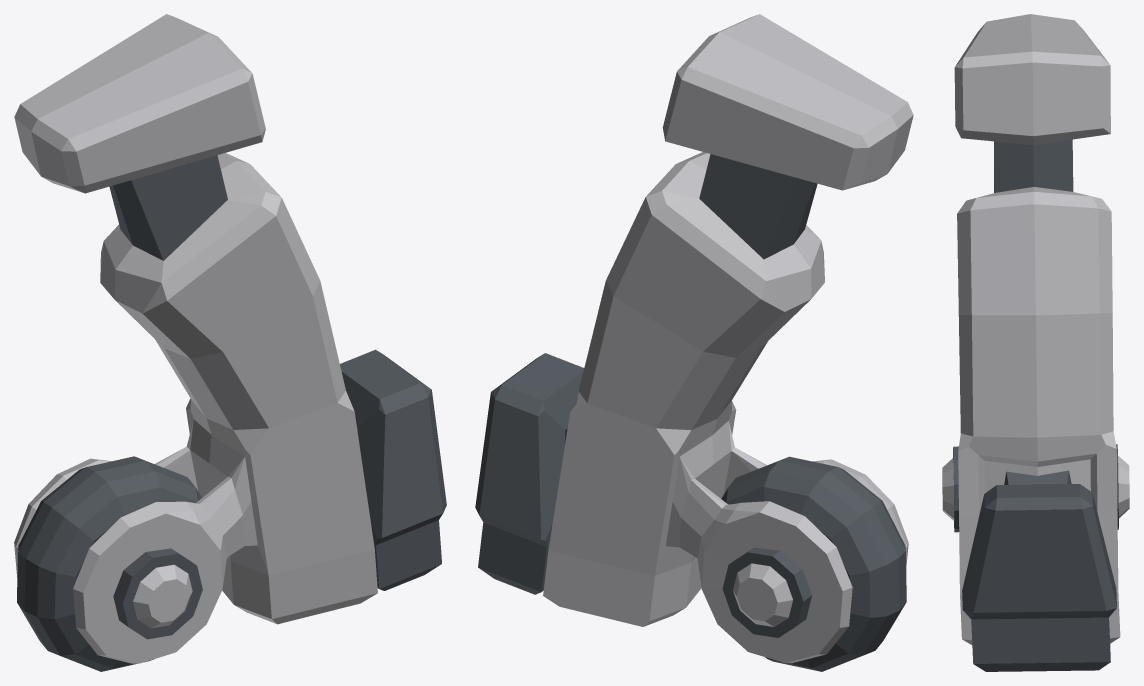
The model's file is Dropship_01_Lander.fbx.
The picture shows the model from 3 angles, left to right: view 1: azimuth 30°, elevation 25°; view 2: azimuth 150°, elevation 25°; view 3: azimuth 270°, elevation 25°; orthographic projection. The views are drawn at different scales.
Parts seen in each view (by area): view 1: Dropship_01_Lander; view 2: Dropship_01_Lander; view 3: Dropship_01_Lander.
Boxes of the visible parts, <box> form: Dropship_01_Lander: <box>14,14,446,671</box>; Dropship_01_Lander: <box>475,14,913,671</box>; Dropship_01_Lander: <box>942,14,1129,671</box>.
Size of the model in its own units: 269 by 402 by 120.
1 material, 1 textured.
